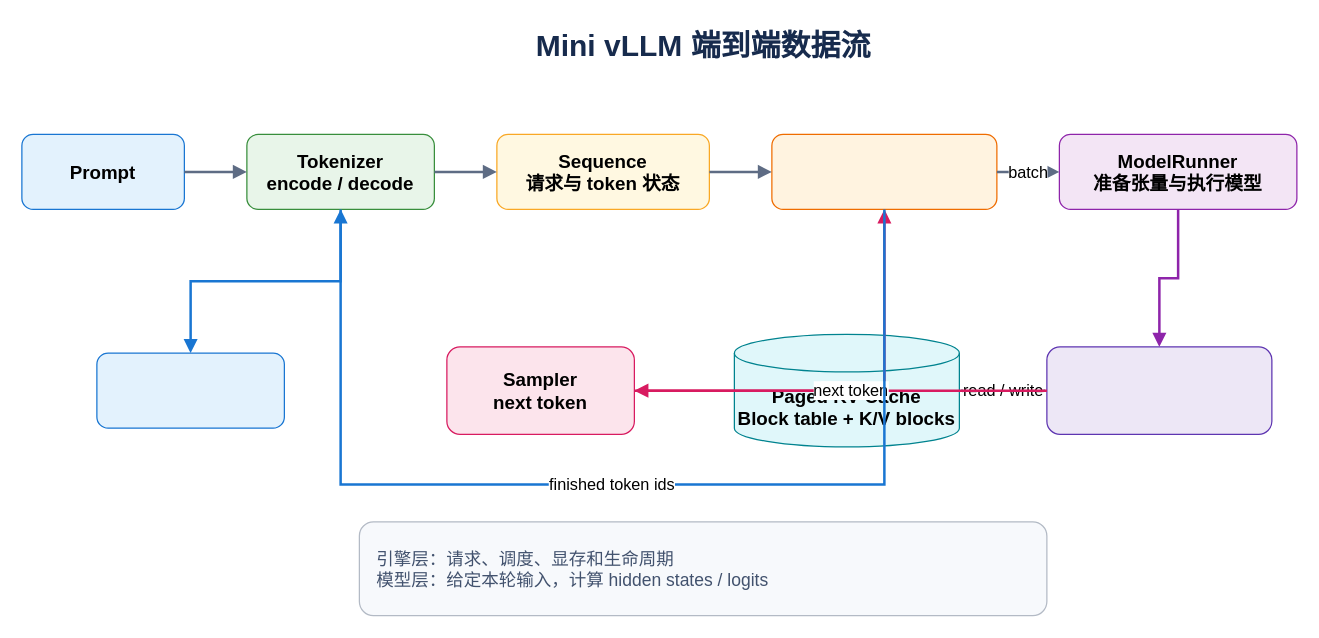
This 1319x638 diagram has some shape labels left out. The centre of each missing label's shape, as x and y in pixels:
Qwen3 Model Layers → logits: point 1159,390
Scheduler Prefill / Decode 调度: point 884,171
Text Output: point 190,390
